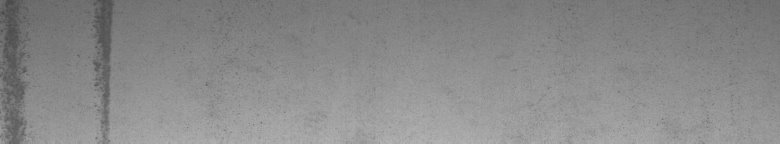hd: (88, 4, 117, 136)
